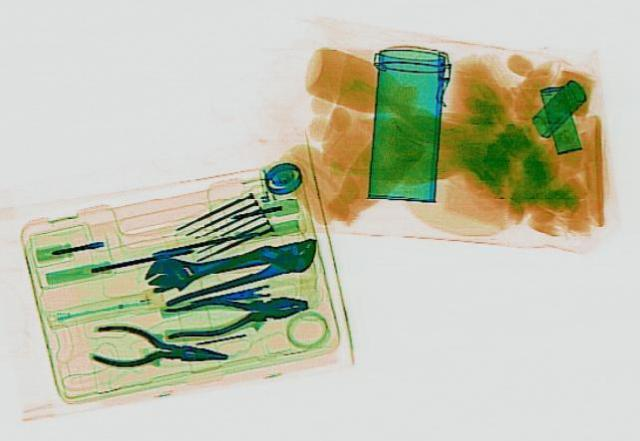Pliers: (156, 286, 312, 340), (83, 320, 231, 376)
Wrench: (136, 231, 306, 294)
